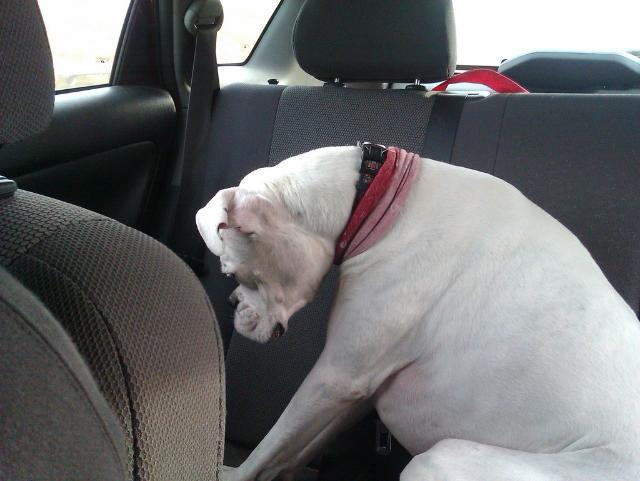Seatbelt: (362, 90, 466, 478), (148, 24, 220, 242)
